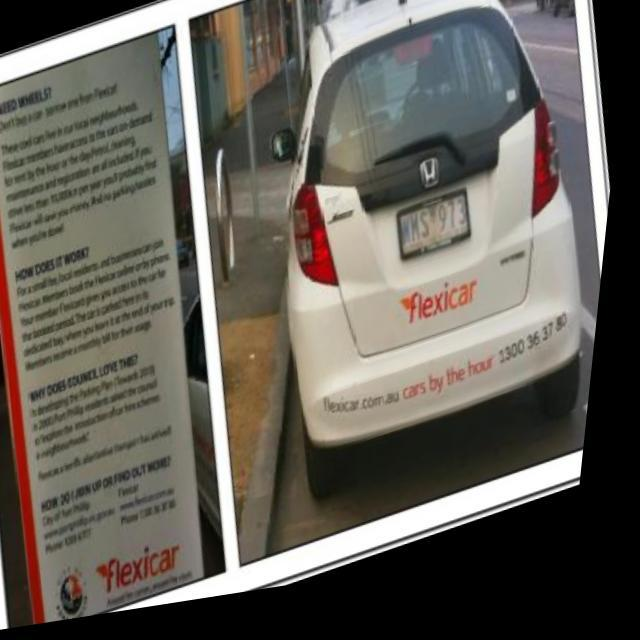license_plate: (398, 202, 484, 276)
